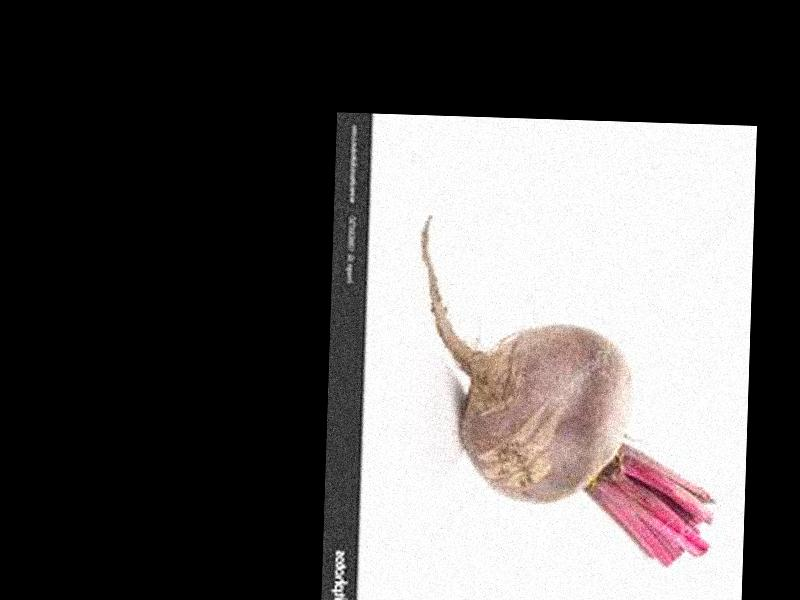Beet: (412, 214, 722, 565)
